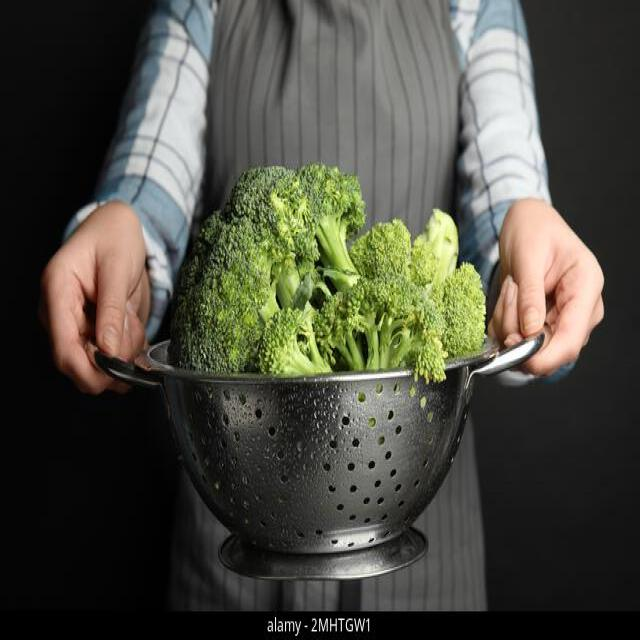broccoli: (169, 165, 485, 369), (317, 273, 447, 374)
